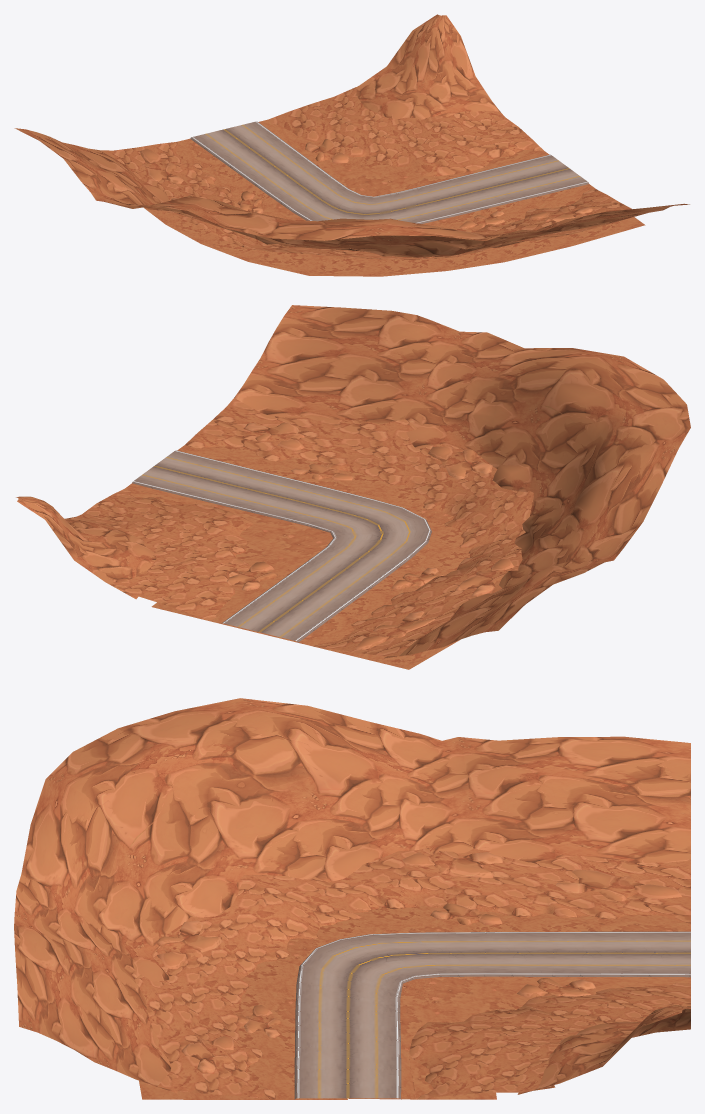
The model's file is Desert_Left.FBX.
The picture shows the model from 3 angles, top to bottom: view 1: azimuth 30°, elevation 25°; view 2: azimuth 150°, elevation 25°; view 3: azimuth 270°, elevation 25°; orthographic projection. The views are drawn at different scales.
Visible parts, largest first — view 1: Desert_TurnLeft_R, Desert_TurnLeft_L, Desert_TurnLeft_Road; view 2: Desert_TurnLeft_R, Desert_TurnLeft_L, Desert_TurnLeft_Road; view 3: Desert_TurnLeft_R, Desert_TurnLeft_Road, Desert_TurnLeft_L.
Part boxes in pixels (x1,y1,x2,y2): Desert_TurnLeft_R: (14, 128, 689, 276); Desert_TurnLeft_L: (258, 14, 549, 196); Desert_TurnLeft_Road: (190, 121, 588, 224); Desert_TurnLeft_R: (177, 305, 690, 669); Desert_TurnLeft_L: (16, 483, 332, 633); Desert_TurnLeft_Road: (132, 450, 431, 642); Desert_TurnLeft_R: (14, 698, 690, 1099); Desert_TurnLeft_Road: (294, 931, 690, 1099); Desert_TurnLeft_L: (348, 976, 690, 1099).
Size of the model in its own units: 50.14 by 10.07 by 49.35.
Materials: 2 (2 with a texture image).
